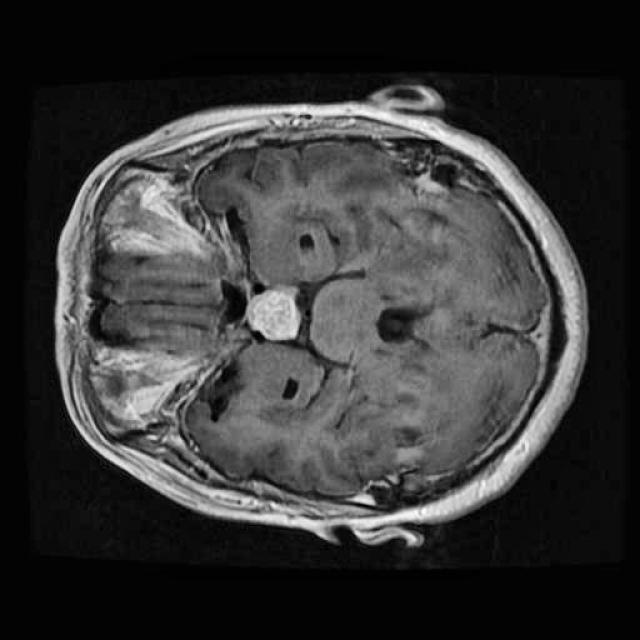Tumor: (244, 280, 312, 351)
